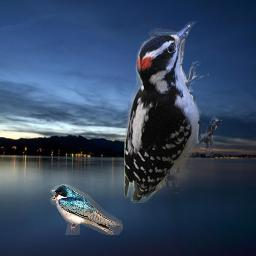Swallow: (50, 184, 123, 235)
Woodpecker: (124, 21, 222, 203)
